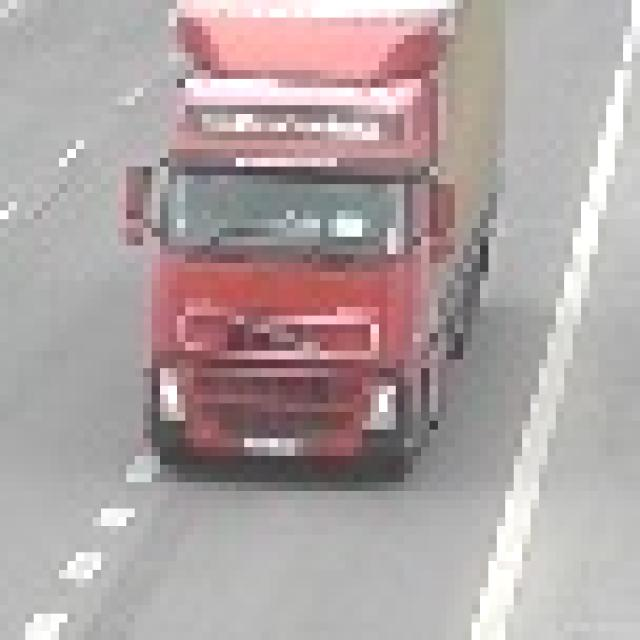TRUCK: (122, 0, 510, 474)
